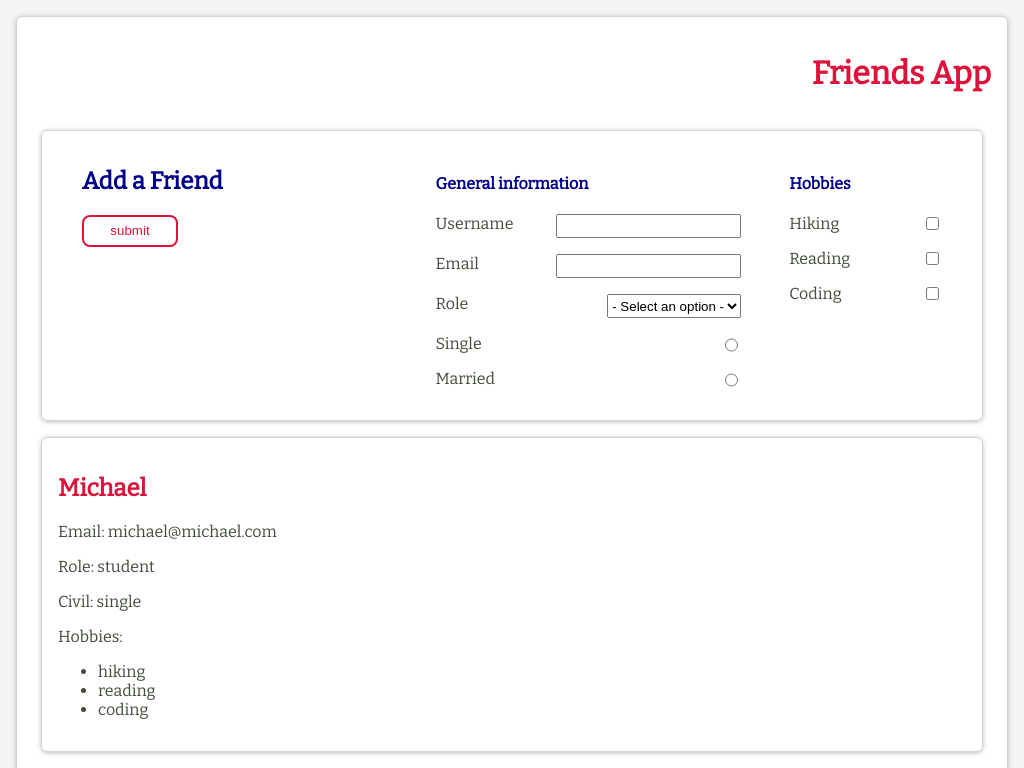
Scenario: Test › Submit button will enable when inputs entered › test input is email format
This screenshot has width=1024, height=768.
Type "test" into the field named "email" at (649, 266), box [556,254,741,278]
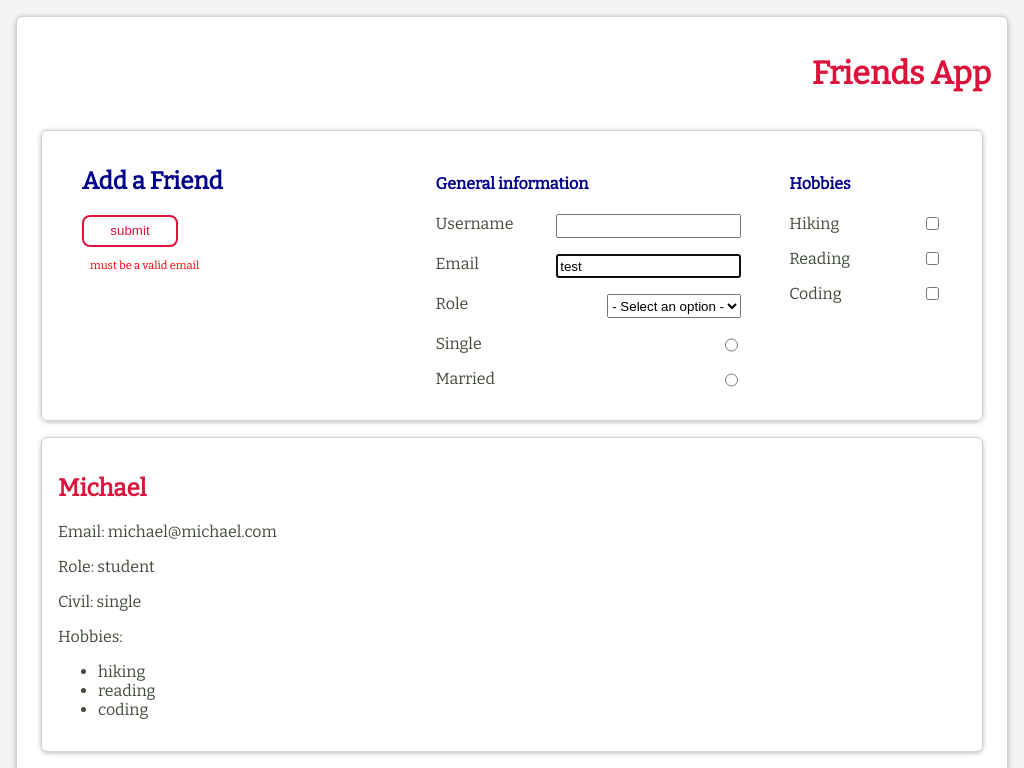
Expected: the text "must be a valid email" is shown, [90,259,199,272]
